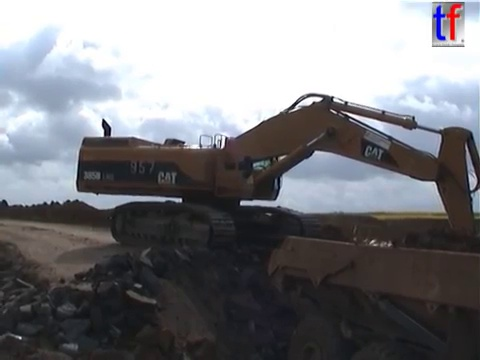excavator: (73, 90, 480, 290)
truck: (263, 216, 480, 360)
